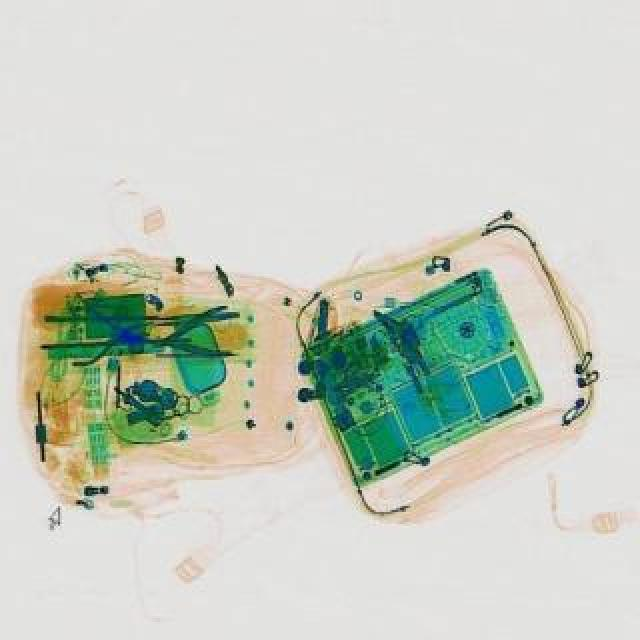wrench: (66, 298, 160, 366), (148, 304, 240, 366)
